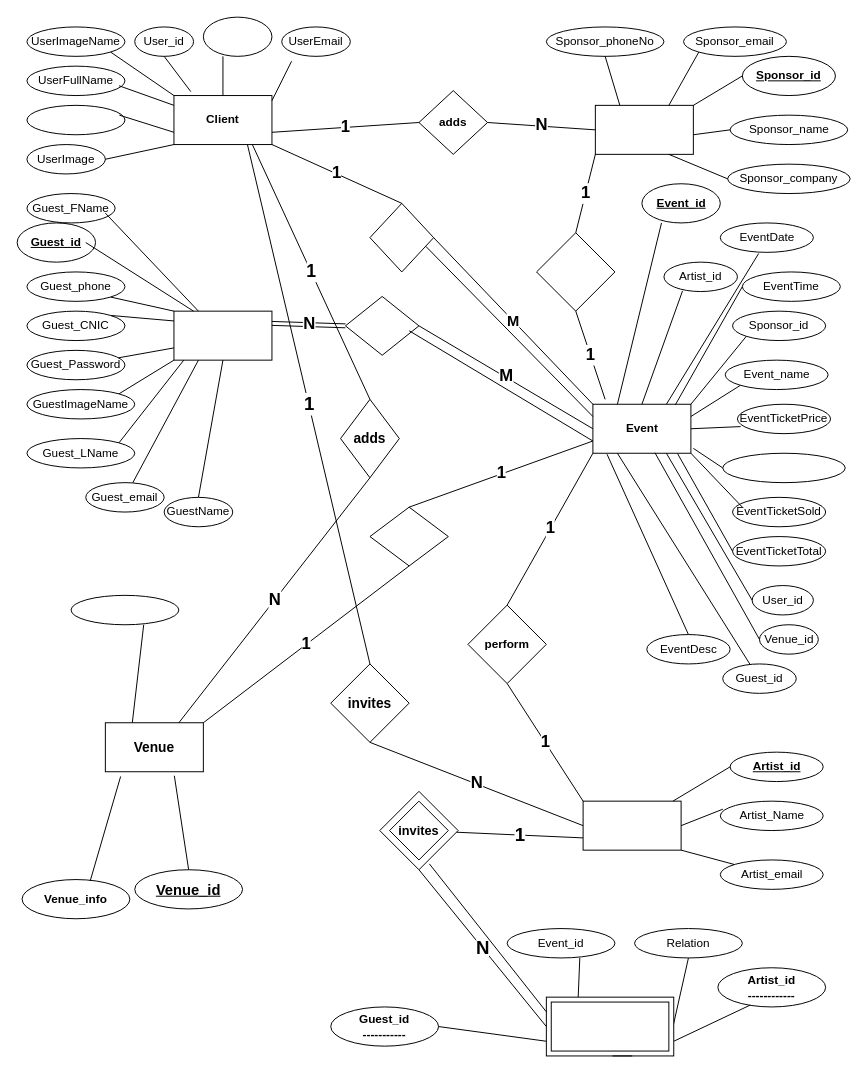
The diagram is 867 pixels wide and 1074 high, and some of its shapes have lost their labels. The shapes that lost their labels are listed below. From the top down, each one's centre as x and y in pixels, then its label:
[237,36]: User_no
[75,119]: UserPassword
[643,129]: Sponsor
[401,237]: manages
[575,271]: sponsors
[222,335]: Guest
[381,325]: join
[783,467]: EventCategory
[408,536]: location
[124,609]: Venue_Name
[631,825]: Artist
[609,1026]: Special_Guest
